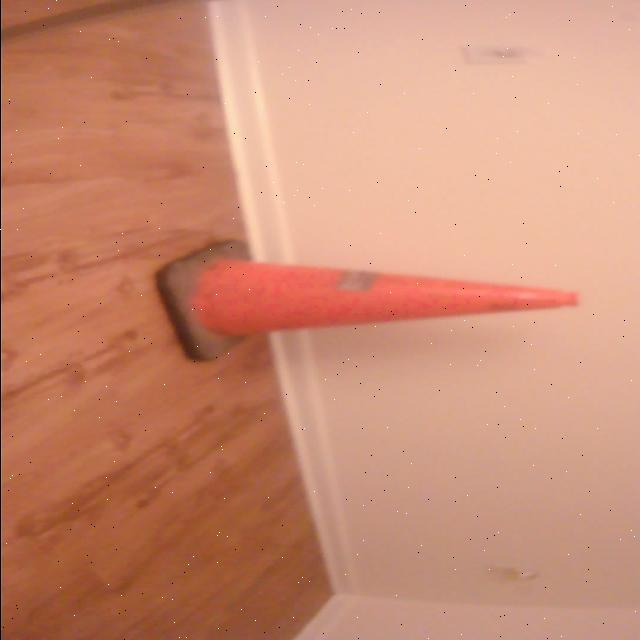traffic cone: (149, 236, 587, 366)
